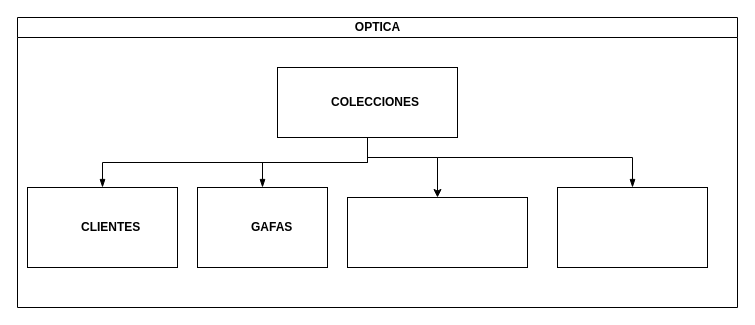
Some shapes in this 755 by 325 pixel diagram are drawn without their labels. The box of each missing label's shape, as (x1, y1, x2, y2) in pixels:
PROVEEDORES: (346, 196, 528, 268)
VENDEDORES: (556, 186, 708, 268)
